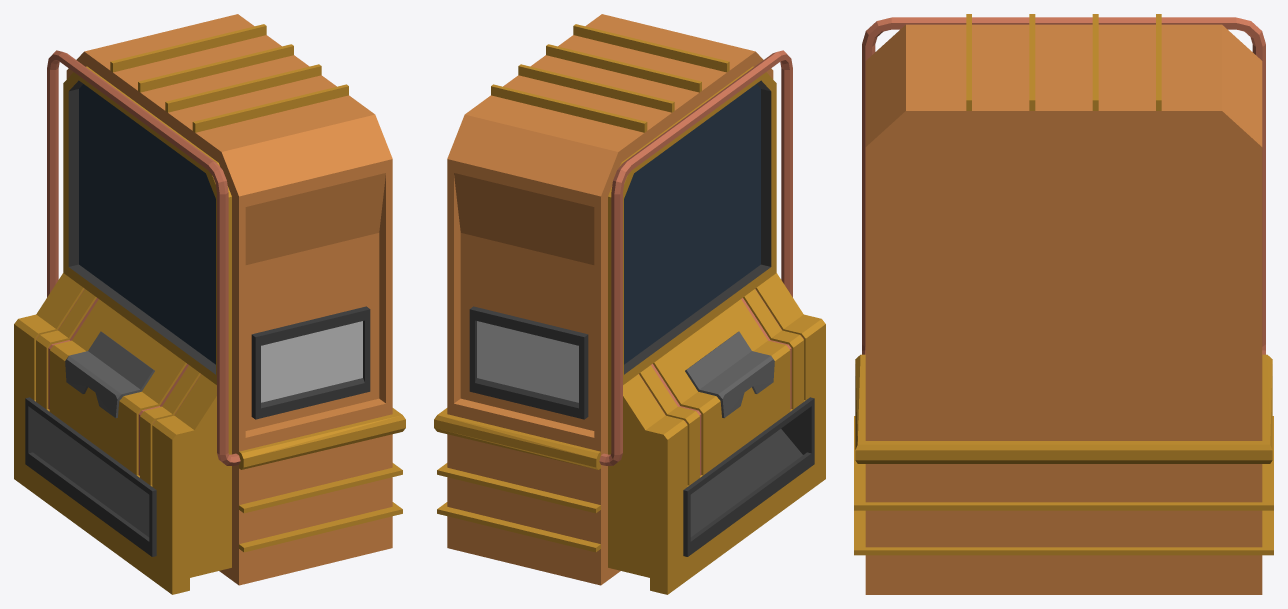
The model's file is Vending_Machine_04.FBX.
3 views of the same model, side by side, from view 1: azimuth 30°, elevation 25°; view 2: azimuth 150°, elevation 25°; view 3: azimuth 270°, elevation 25° (orthographic). The views are drawn at different scales.
Visible parts, largest first — view 1: Vending_Machine_04_LOD0; view 2: Vending_Machine_04_LOD0; view 3: Vending_Machine_04_LOD0.
Part boxes in pixels (x1,y1,x2,y2): Vending_Machine_04_LOD0: (14, 14, 405, 594); Vending_Machine_04_LOD0: (434, 14, 825, 594); Vending_Machine_04_LOD0: (854, 14, 1273, 594).
Size of what is drawn, in the model's own units: 55.91 by 101 by 78.02.
